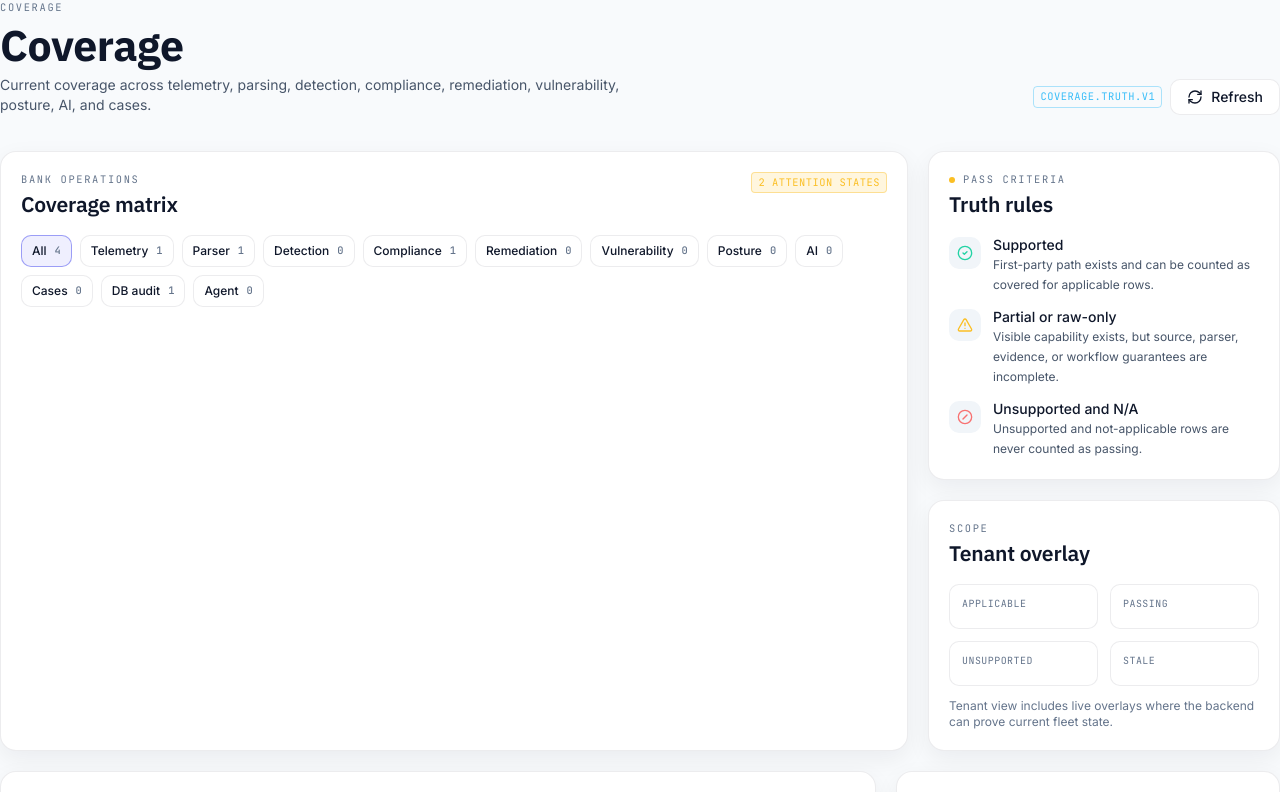
Test case: Coverage › filters by DB audit and keeps the next action visible
What coordinates should you click on to do the following:
click the button "DB audit 1"
I would click on:
 (143, 291)
Its box is [101, 275, 185, 307].
(page scrolled)
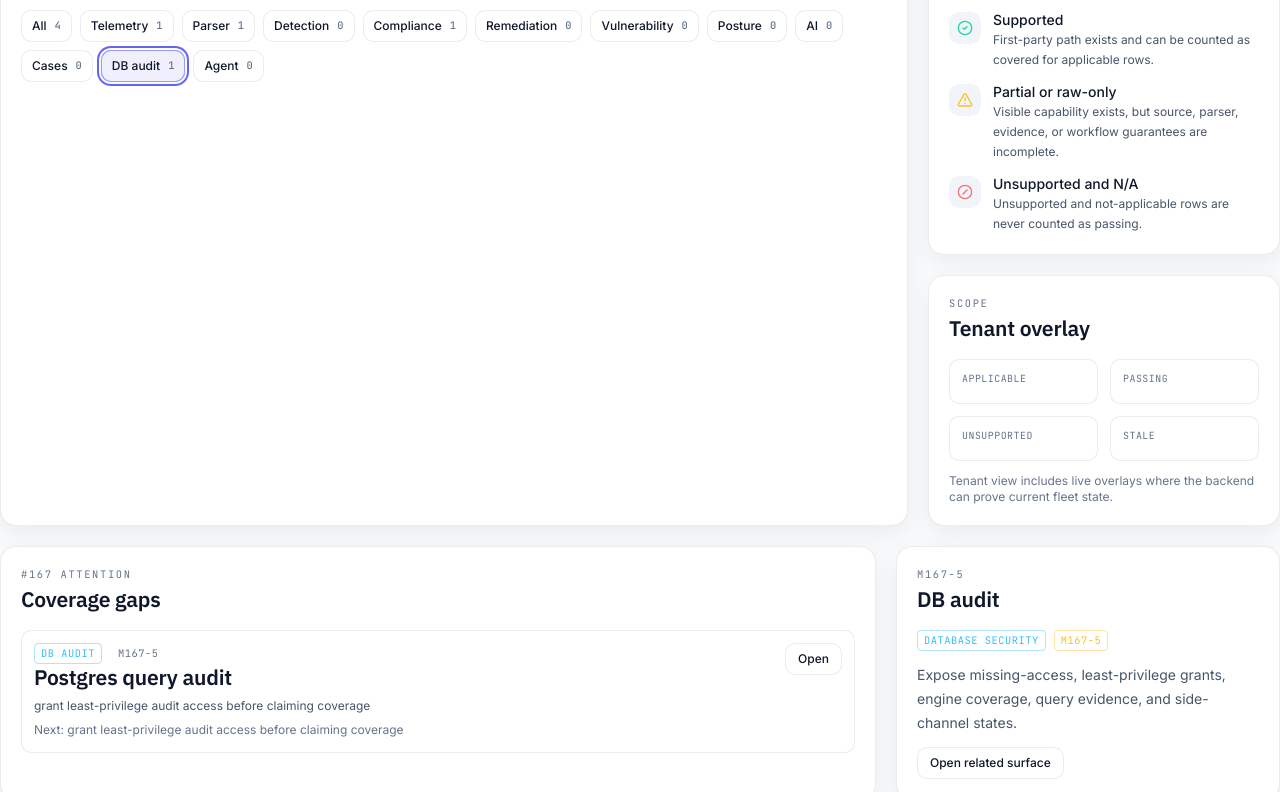
Expected: the heading "Postgres query audit" is shown, [34, 663, 232, 691]
Expected: the text "least-privilege grants" is shown, [917, 666, 1226, 731]
